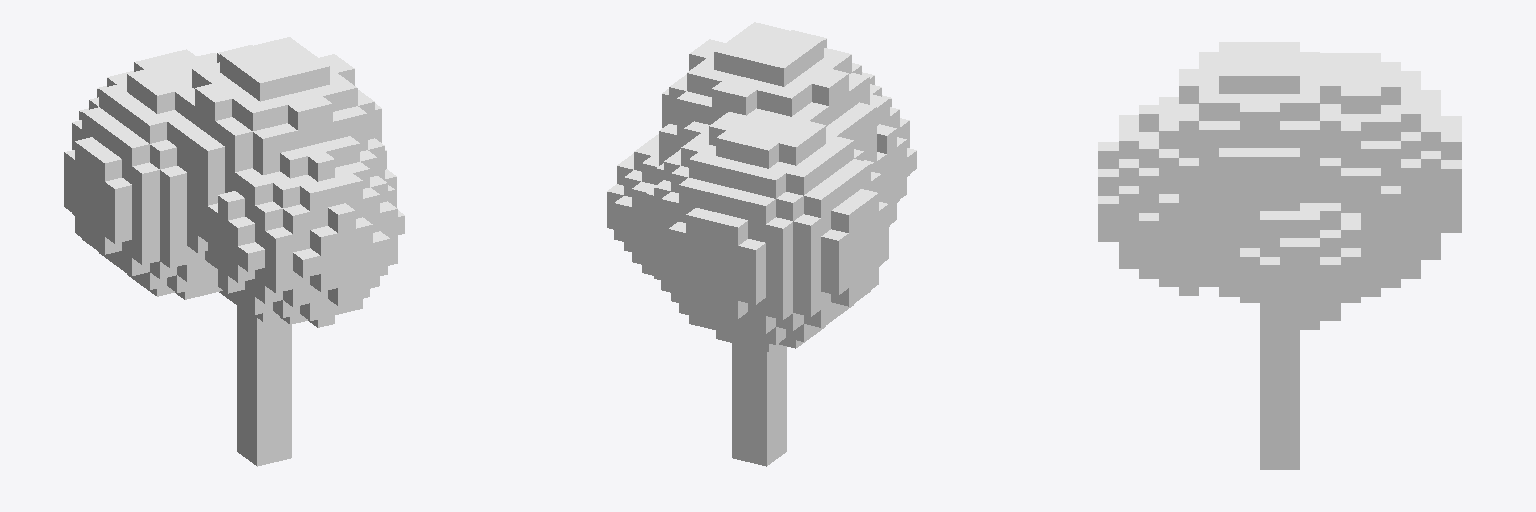
File: cherry_tree_medium_2.obj
The picture shows the model from 3 angles: view 1: azimuth 30°, elevation 25°; view 2: azimuth 150°, elevation 25°; view 3: azimuth 270°, elevation 25°; orthographic projection.
Bounding box in the file's own units: 15 × 22 × 18.